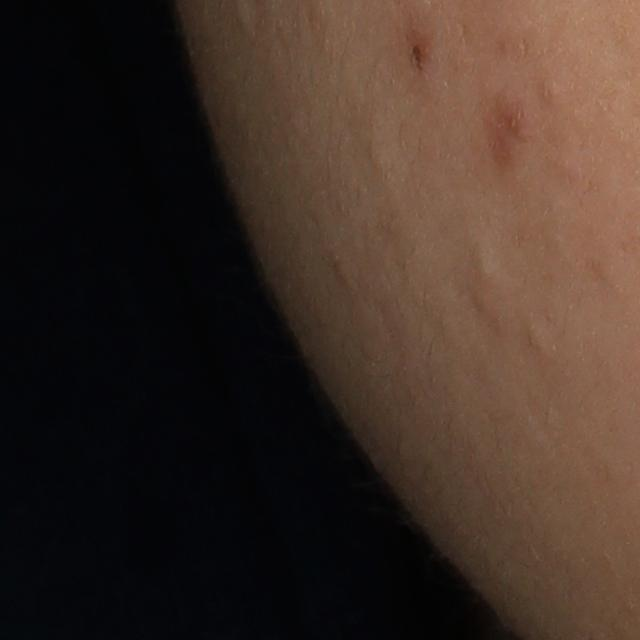comedo: (524, 316, 563, 367), (468, 238, 507, 286)
